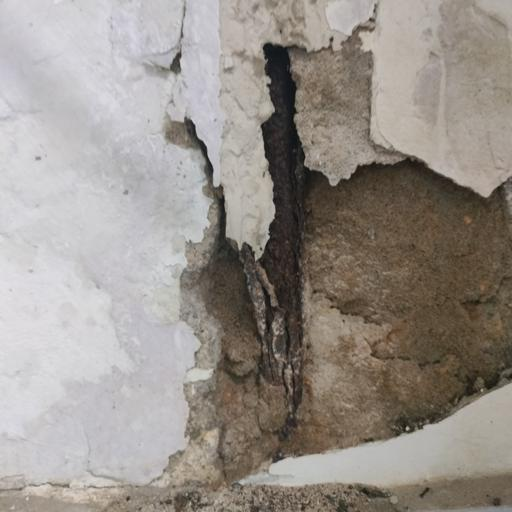spalling: (148, 39, 512, 496)
